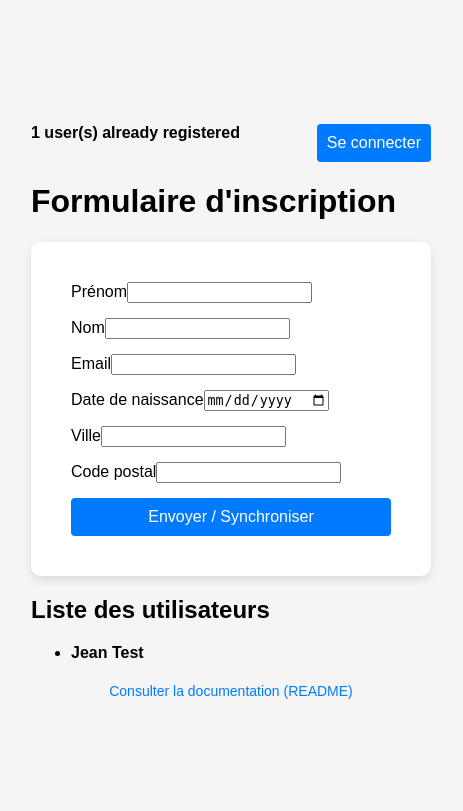
App component › can login as admin and see delete button
Expected: the text "Jean Test" is shown, top-left (71, 644), bottom-right (144, 661)
Expected: the text "Supprimer" is not shown
Click the button "Se connecter" at [374, 143], box top-left (317, 124), bottom-right (431, 162)
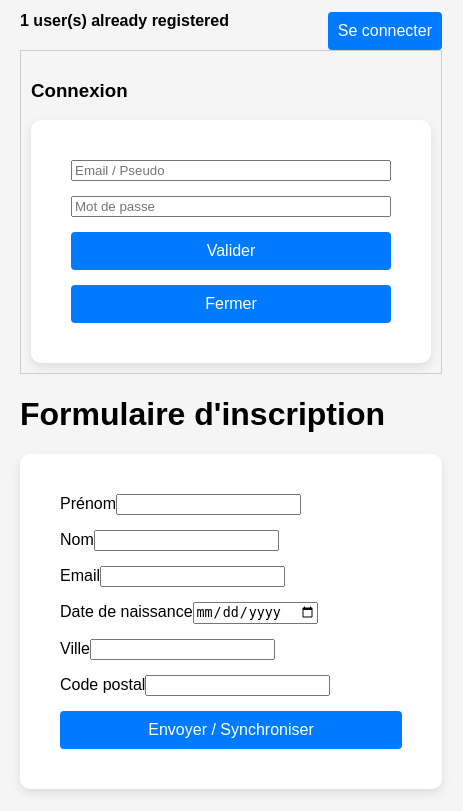
Type "admin" into the field with placeholder "Email / Pseudo" at [231, 171], box top-left (71, 160), bottom-right (391, 181)
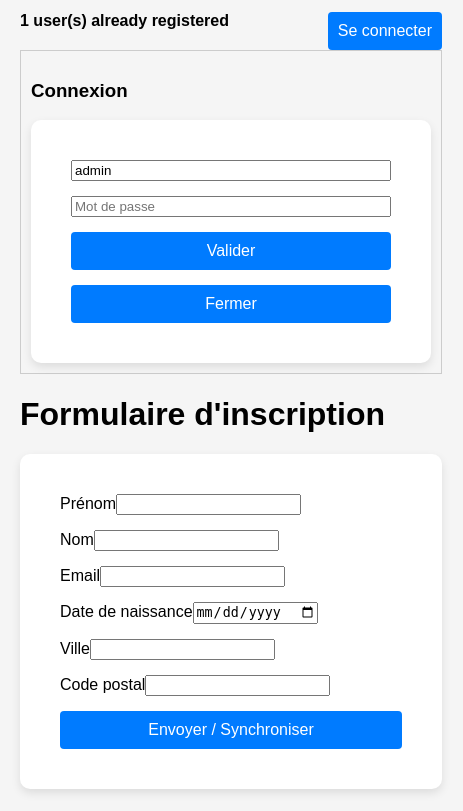
Type "password" into the password field with placeholder "Mot de passe" at [231, 207], box top-left (71, 196), bottom-right (391, 217)
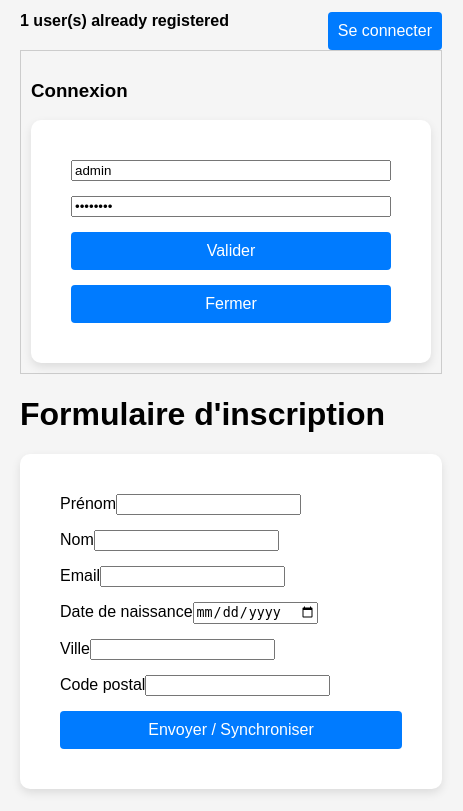
Click the button "Valider" at [231, 251], box top-left (71, 232), bottom-right (391, 270)
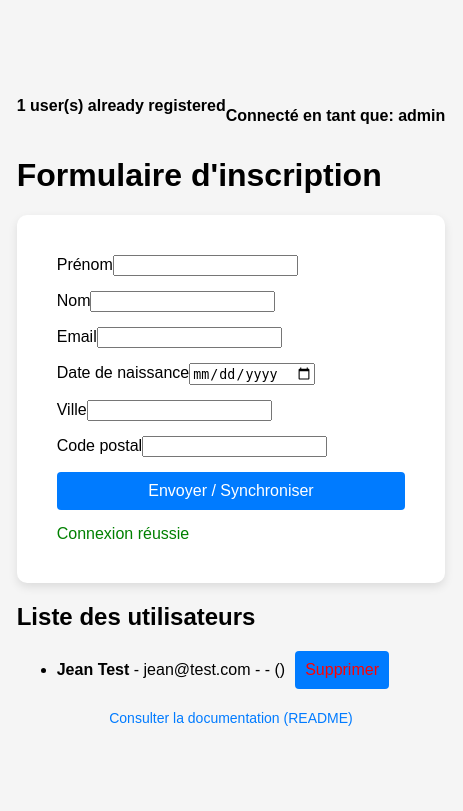
Now the text "Connecté en tant que: admin" is shown, box top-left (226, 108), bottom-right (445, 124)
Now the button "Supprimer" is shown, box top-left (295, 650), bottom-right (389, 688)
